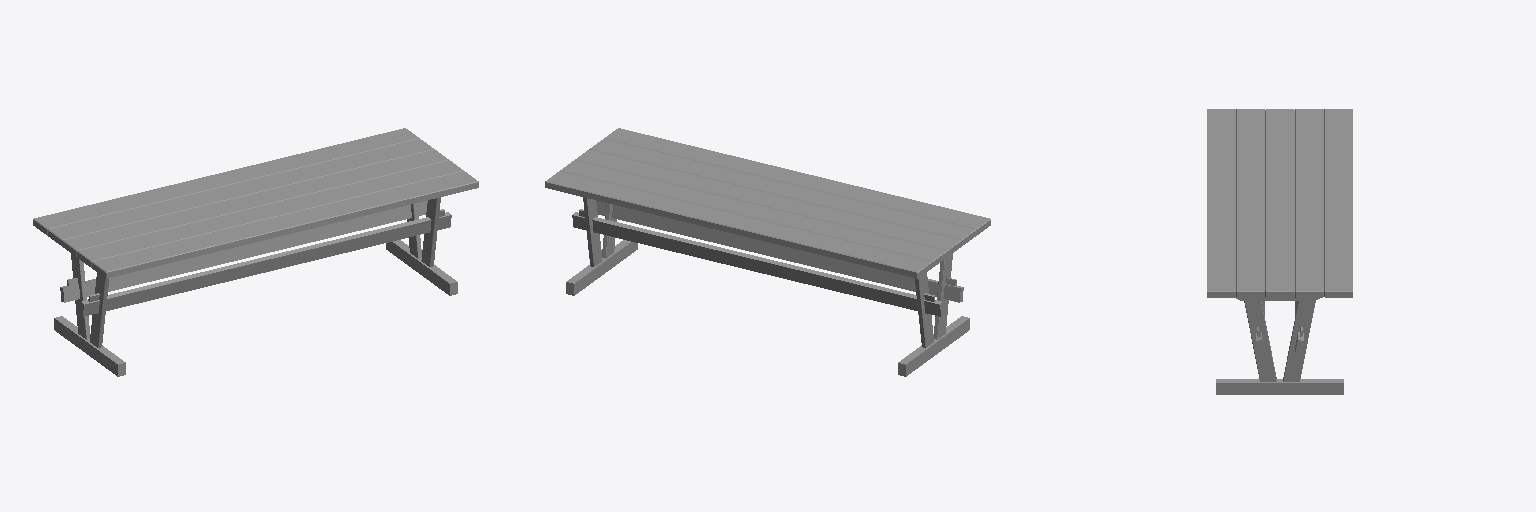
File: textured_table.obj
3 views of the same model, side by side, from view 1: azimuth 30°, elevation 25°; view 2: azimuth 150°, elevation 25°; view 3: azimuth 270°, elevation 25° (orthographic).
Parts seen in each view (by area): view 1: table; view 2: table; view 3: table.
Part boxes in pixels (x1,y1,x2,y2): table: (33,128,478,376); table: (545,128,990,376); table: (1207,109,1352,394).
Size of the model in its own units: 174 by 50.01 by 59.35.